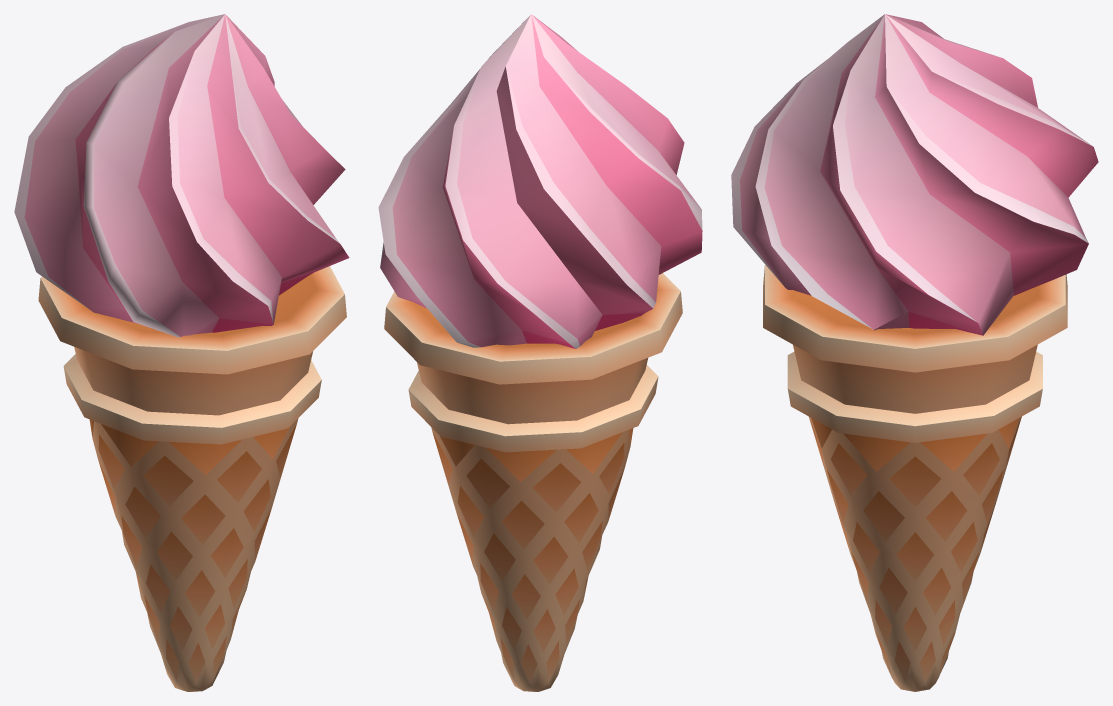
Rendered from iceCream.fbx.
3 views of the same model, side by side, from view 1: azimuth 30°, elevation 25°; view 2: azimuth 150°, elevation 25°; view 3: azimuth 270°, elevation 25° (orthographic). The views are drawn at different scales.
Parts seen in each view (by area): view 1: iceCream; view 2: iceCream; view 3: iceCream.
Boxes of the visible parts, bbox=[...] form: iceCream: bbox=[14, 14, 349, 691]; iceCream: bbox=[378, 14, 702, 691]; iceCream: bbox=[731, 14, 1098, 691].
Bounding box in the file's own units: 7.51 × 17.29 × 8.39.
